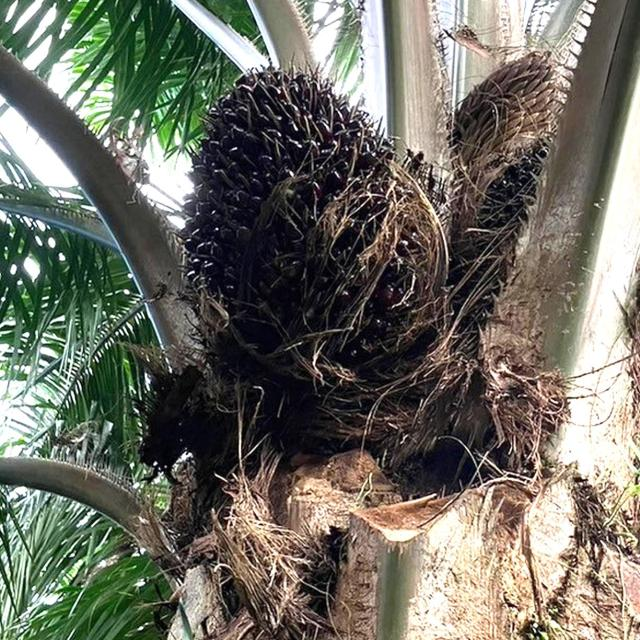ripe: (160, 43, 456, 413)
